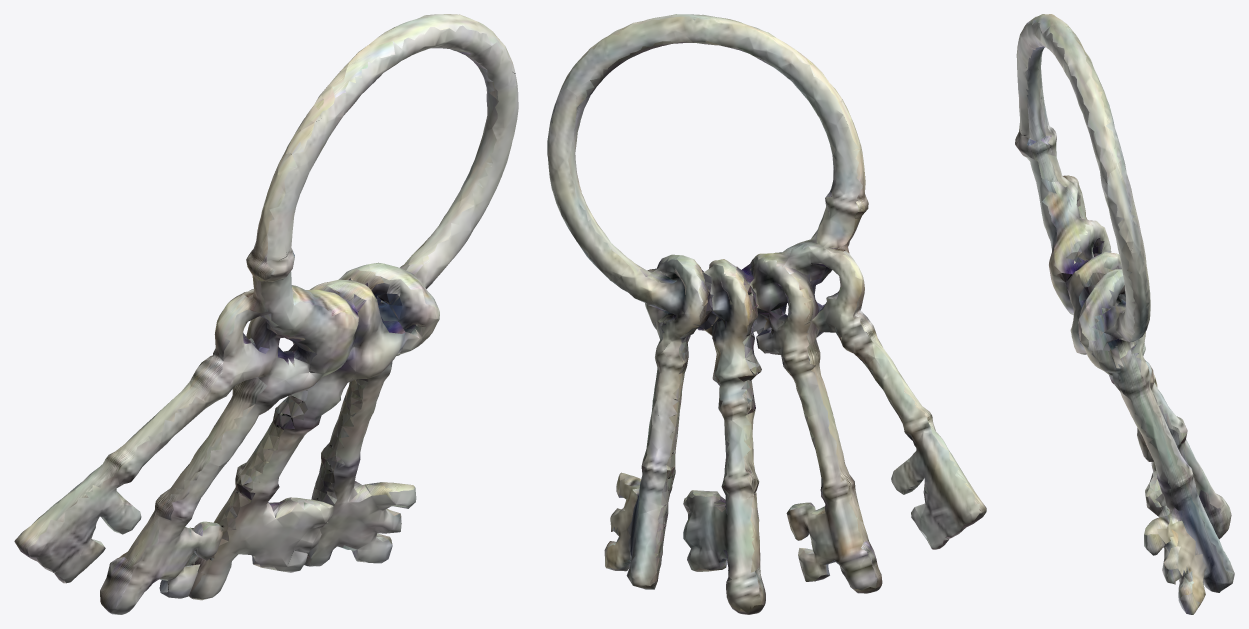
Rendered from dress-keys.glb.
3 views of the same model, side by side, from view 1: azimuth 30°, elevation 25°; view 2: azimuth 150°, elevation 25°; view 3: azimuth 270°, elevation 25° (orthographic). The views are drawn at different scales.
Visible parts, largest first — view 1: world; view 2: world; view 3: world.
Part boxes in pixels (box(x1,y1,x2,y2)): world: box(14, 14, 518, 614); world: box(547, 14, 986, 614); world: box(1015, 14, 1234, 614).
Size of the model in its own units: 0.9018 by 1.03 by 0.363.
1 material, 1 textured.
